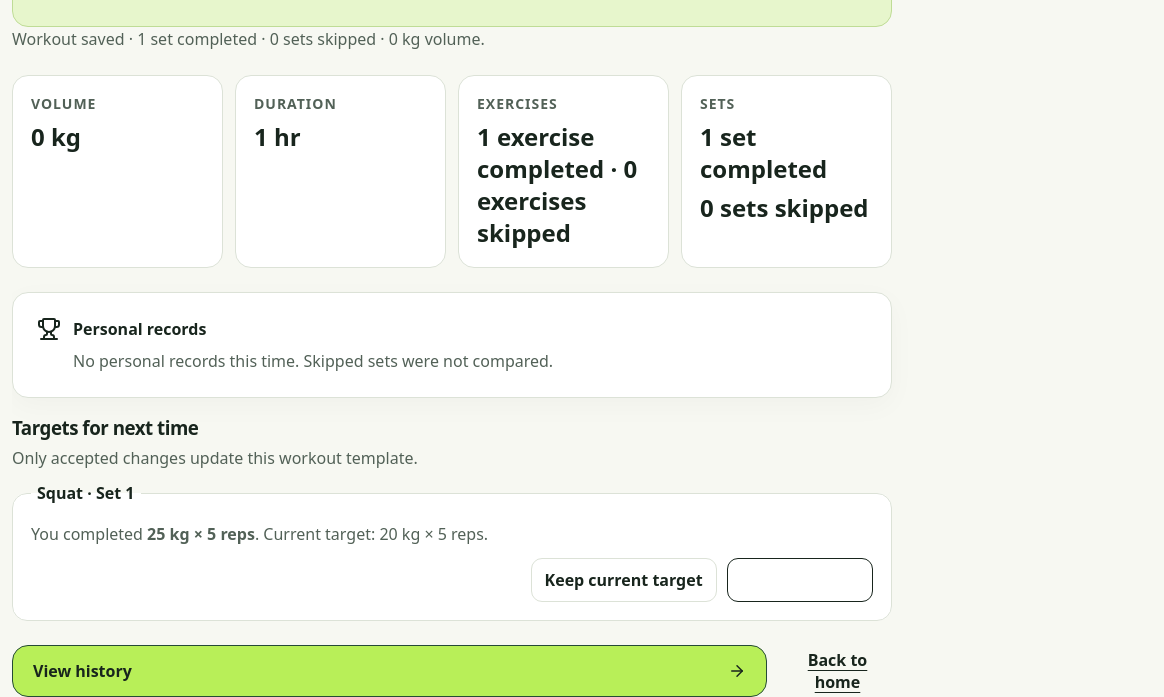
Test: reviewer regressions › moves keyboard focus to the announced result after a future-target decision
This screenshot has width=1164, height=697.
(page scrolled)
Click the button "Use this target". click: [800, 580]
box: x1=727 y1=558 x2=873 y2=602
(page scrolled)
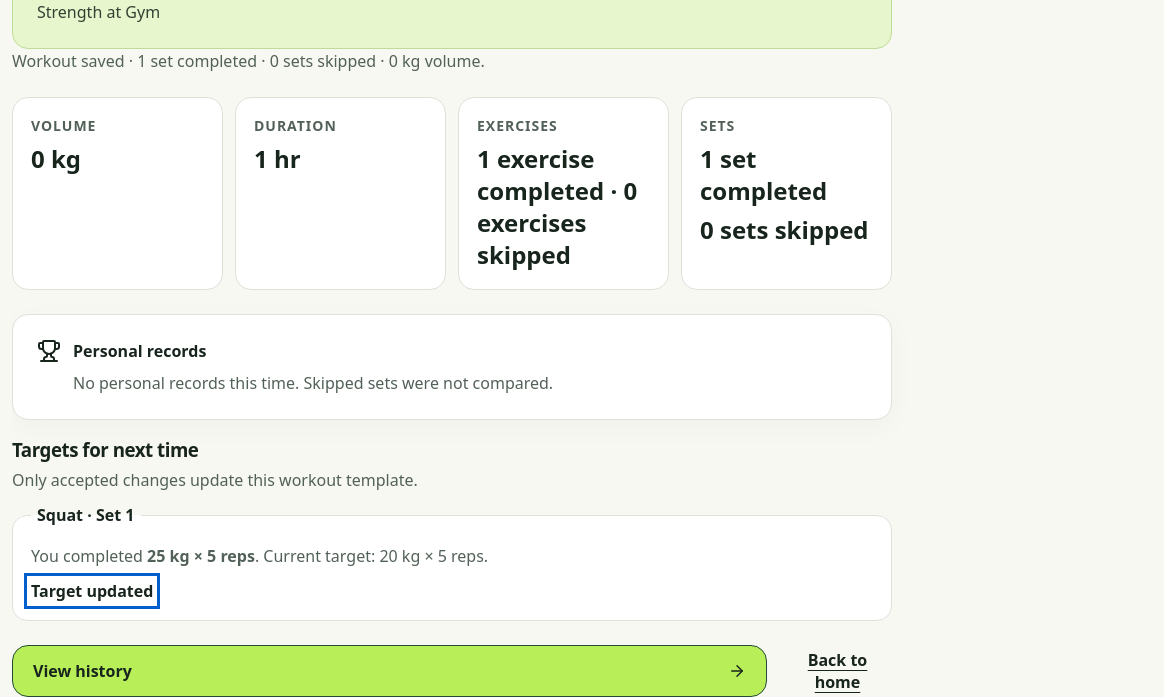
Check: the message reads "Target updated", box x1=31 y1=580 x2=153 y2=602
